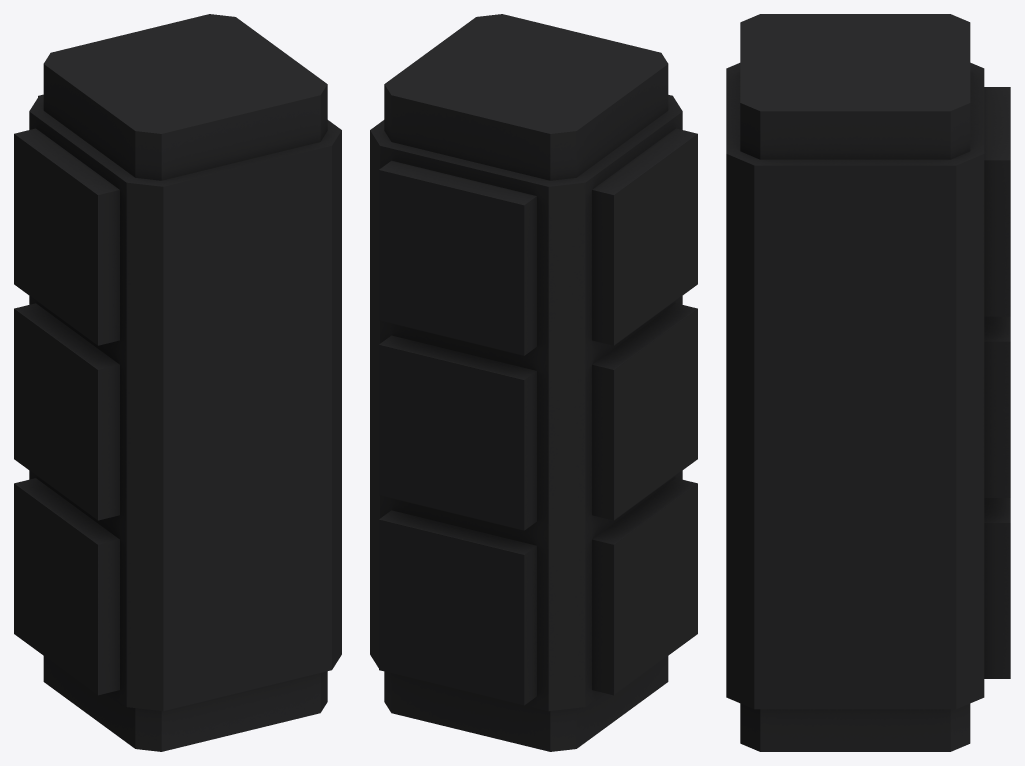
File: Pillar 1.fbx
3 renders of one model, left to right at view 1: azimuth 30°, elevation 25°; view 2: azimuth 150°, elevation 25°; view 3: azimuth 270°, elevation 25°, orthographic. The views are drawn at different scales.
Parts seen in each view (by area): view 1: Pillar03; view 2: Pillar03; view 3: Pillar03.
Part boxes in pixels (x1,y1,x2,y2): Pillar03: (14, 14, 341, 751); Pillar03: (370, 14, 697, 751); Pillar03: (726, 14, 1010, 751).
Bounding box in the file's own units: 114 × 285 × 114.
